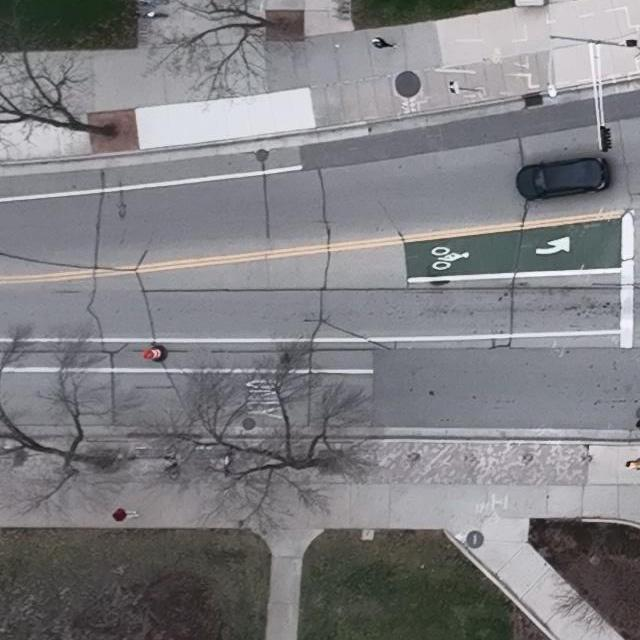car: (515, 156, 611, 201)
